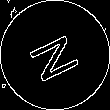N_NE: (23, 26, 87, 84)
